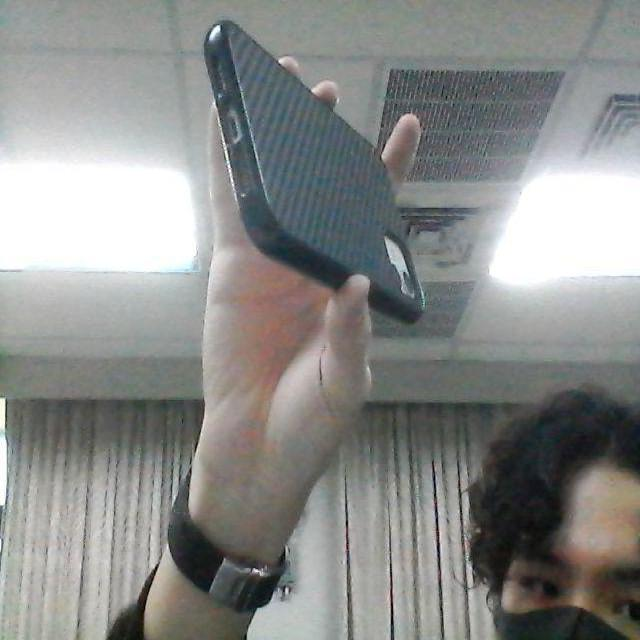mobile: (195, 20, 451, 329)
